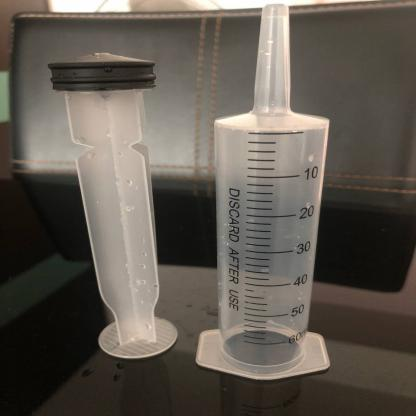wet: (200, 5, 338, 384), (43, 51, 183, 358)
